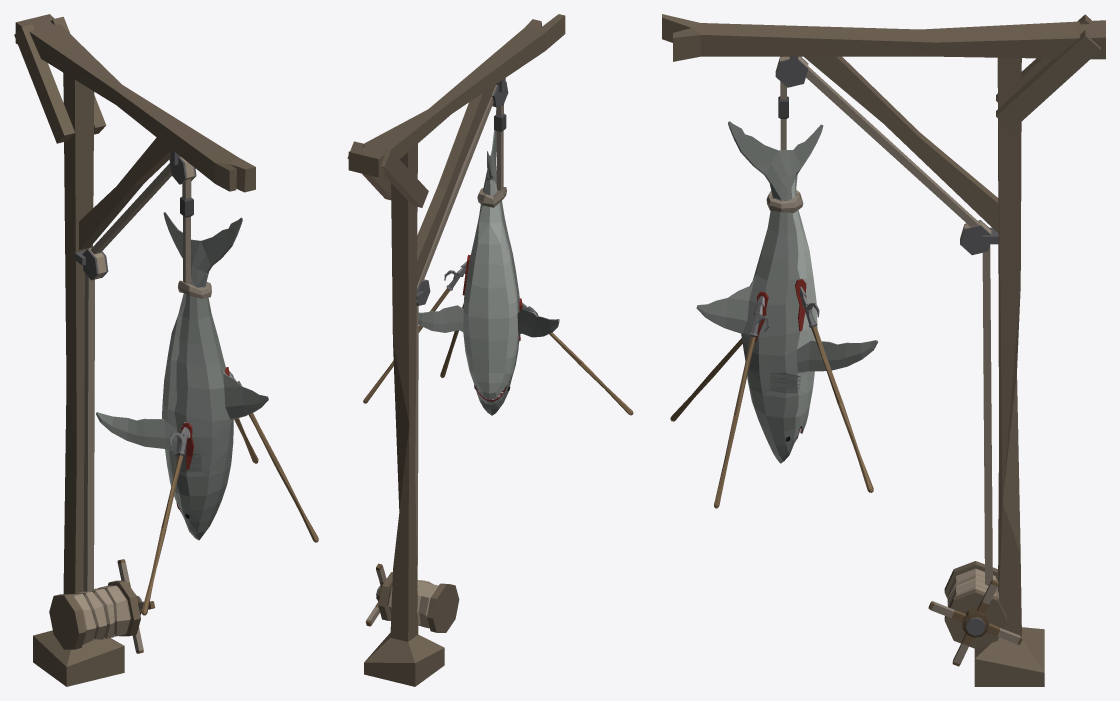
File: SM_Prop_Crane_Shark_01.glb
3 views of the same model, side by side, from view 1: azimuth 30°, elevation 25°; view 2: azimuth 150°, elevation 25°; view 3: azimuth 270°, elevation 25° (orthographic). The views are drawn at different scales.
Visible parts, largest first — view 1: SM_Prop_Crane_Shark_01; view 2: SM_Prop_Crane_Shark_01; view 3: SM_Prop_Crane_Shark_01.
Boxes of the visible parts, left/top/right/bottom form: SM_Prop_Crane_Shark_01: left=14, top=14, right=318, bottom=686; SM_Prop_Crane_Shark_01: left=347, top=14, right=633, bottom=686; SM_Prop_Crane_Shark_01: left=662, top=14, right=1105, bottom=686.
Size of the model in its own units: 0.0258 by 0.0729 by 0.0451.
Materials: 1 (1 with a texture image).
